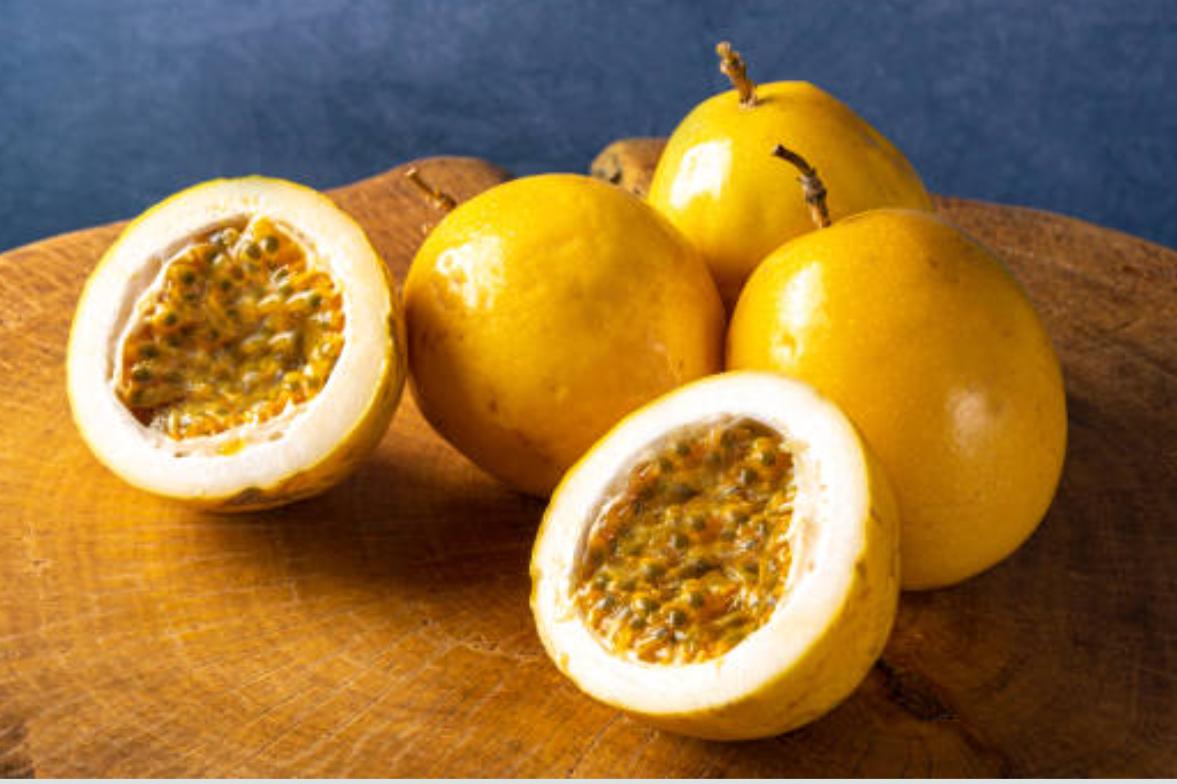maracuya: (725, 196, 1083, 602), (394, 167, 726, 507)
